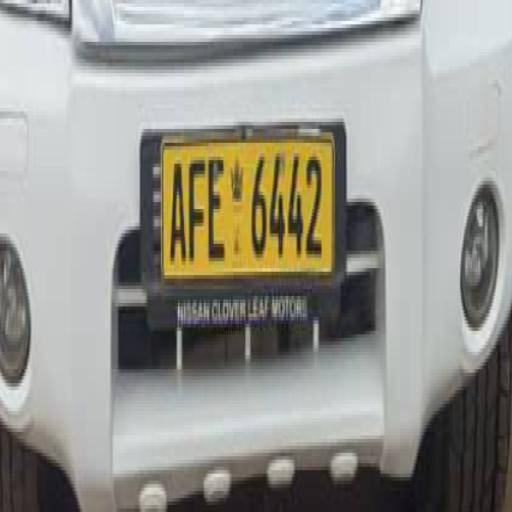number-plates: (161, 141, 326, 280)
